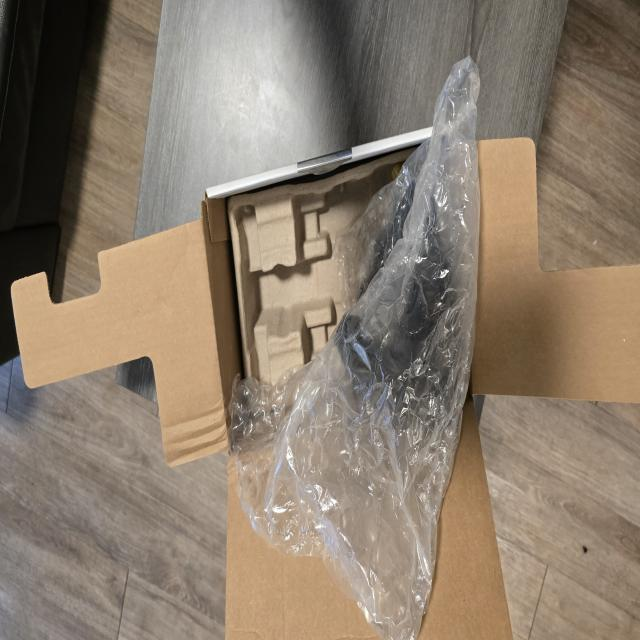9c: (228, 57, 480, 638)
